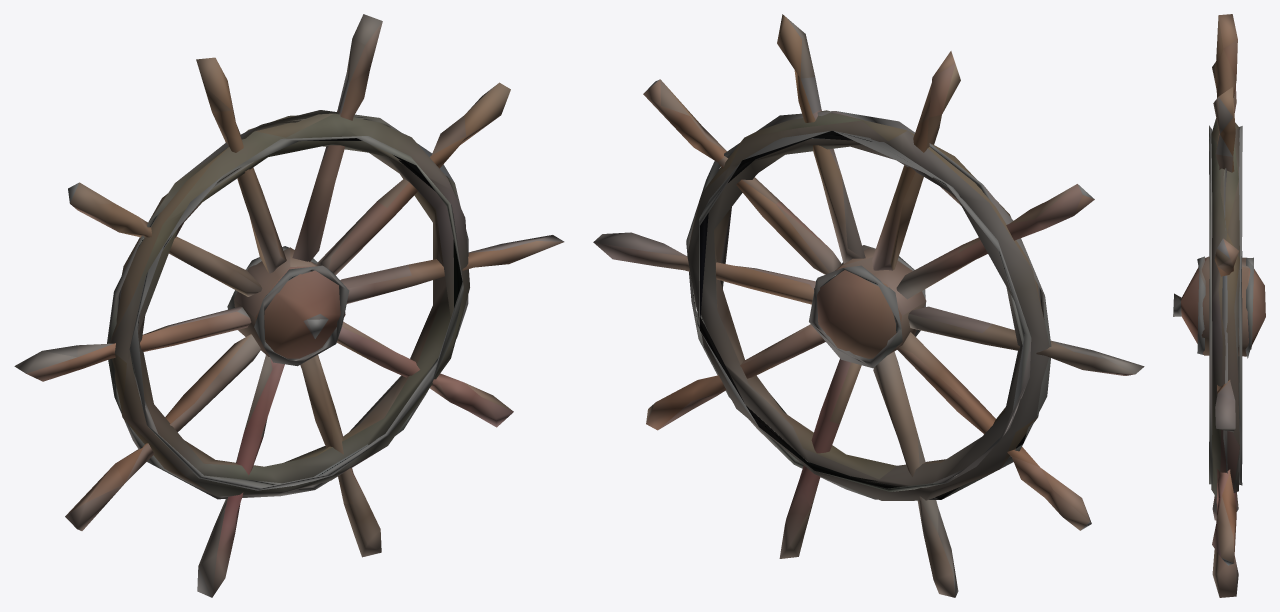
Rendered from wheel_far.glb.
3 renders of one model, left to right at view 1: azimuth 30°, elevation 25°; view 2: azimuth 150°, elevation 25°; view 3: azimuth 270°, elevation 25°, orthographic. The views are drawn at different scales.
Visible parts, largest first — view 1: wheel_body; view 2: wheel_body; view 3: wheel_body.
Boxes of the visible parts, x1,y1,x2,y2 form: wheel_body: [14, 14, 564, 597]; wheel_body: [593, 14, 1144, 597]; wheel_body: [1173, 14, 1265, 597].
Bounding box in the file's own units: 1.71 × 1.63 × 0.2702.
1 material, 1 textured.
